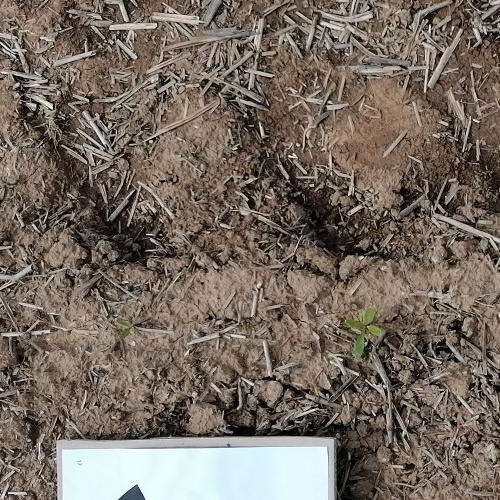beet: (343, 308, 383, 359), (113, 315, 138, 341)
